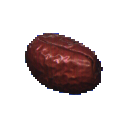ng: (18, 24, 110, 101)
